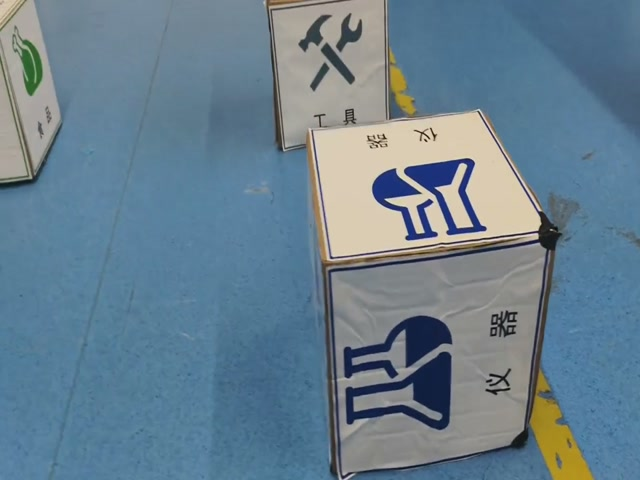Cube_ins: (303, 106, 556, 264)
